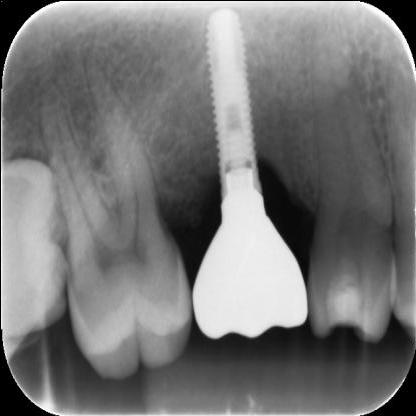Bego: (195, 2, 264, 194)
